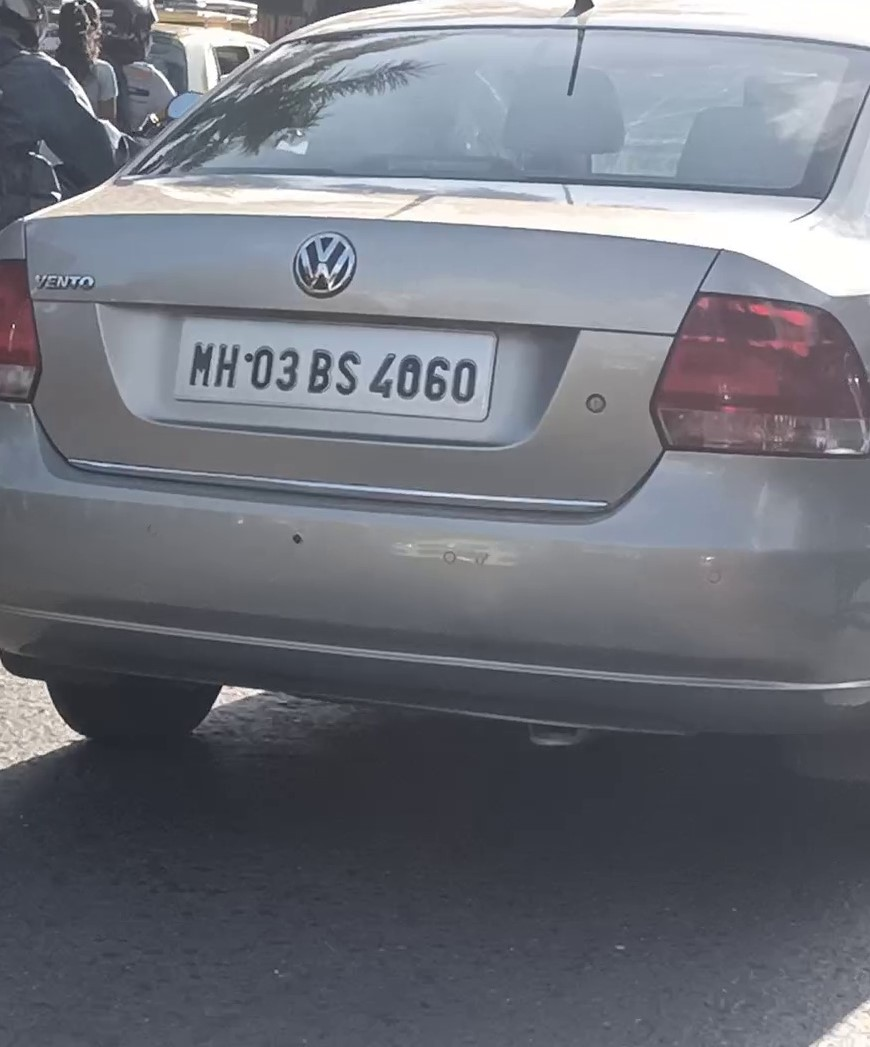MH03BS4060: (173, 316, 498, 423)
